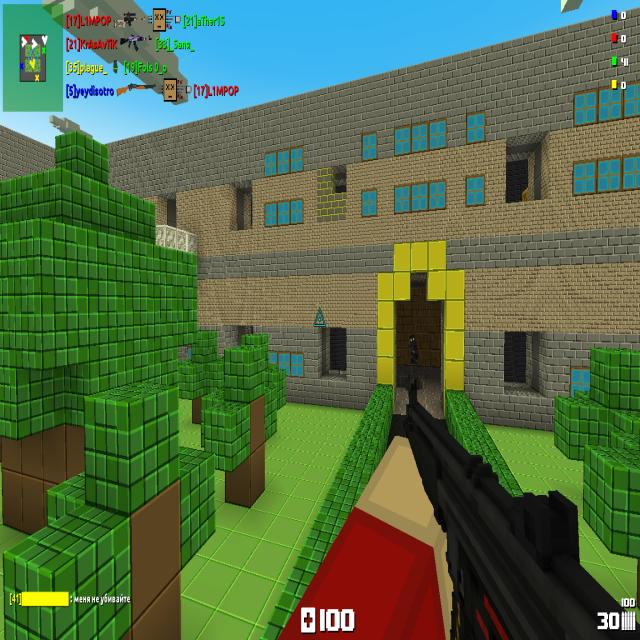enemy: (409, 334, 418, 364)
